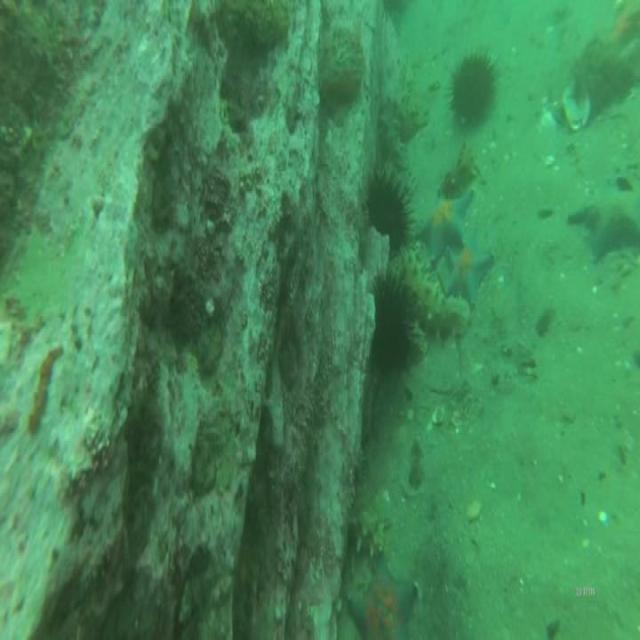echinus: (361, 156, 419, 261), (371, 267, 418, 381), (441, 50, 502, 134)
holothurian: (398, 251, 468, 340), (373, 76, 433, 160), (342, 482, 391, 556), (440, 136, 481, 202)
starfish: (340, 545, 420, 637), (567, 174, 640, 268), (417, 187, 473, 266), (443, 239, 495, 311)
